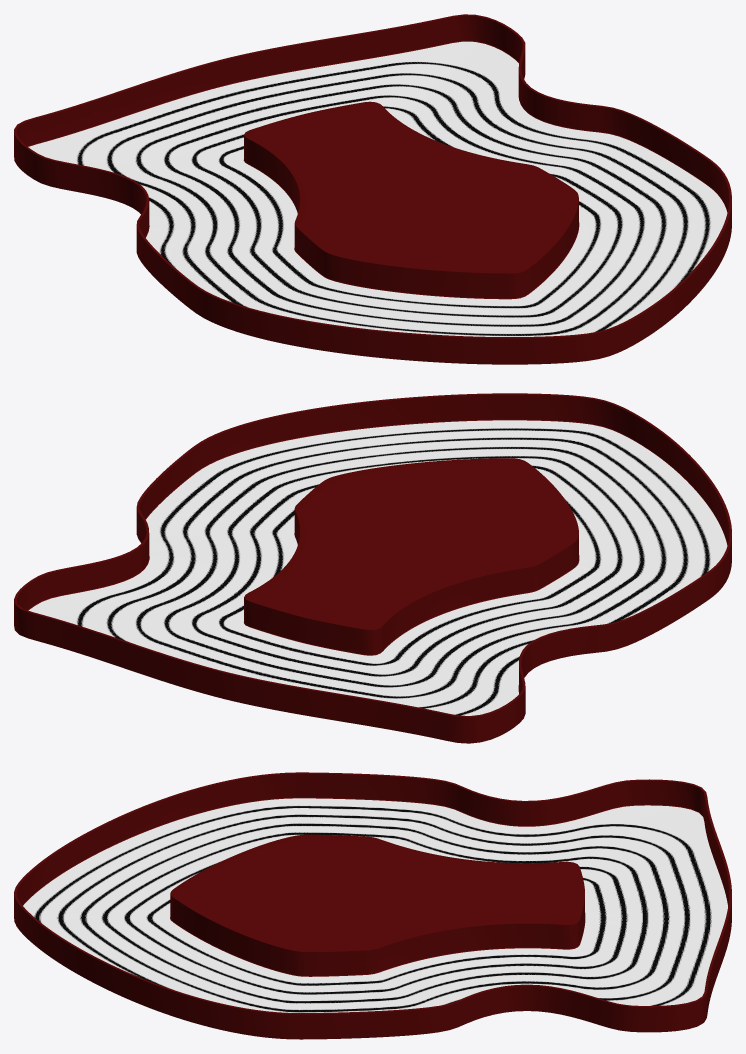
Rendered from PlayGround_2.dae.
3 views of the same model, one above another, from view 1: azimuth 30°, elevation 25°; view 2: azimuth 150°, elevation 25°; view 3: azimuth 270°, elevation 25° (orthographic). The views are drawn at different scales.
Parts seen in each view (by area): view 1: PG; view 2: PG; view 3: PG.
Part boxes in pixels (x1,y1,x2,y2): PG: (14,14,731,364); PG: (14,393,731,743); PG: (14,772,731,1039).
Bounding box in the file's own units: 3.27 × 4.1 × 0.1599.
Materials: 1 (1 with a texture image).
